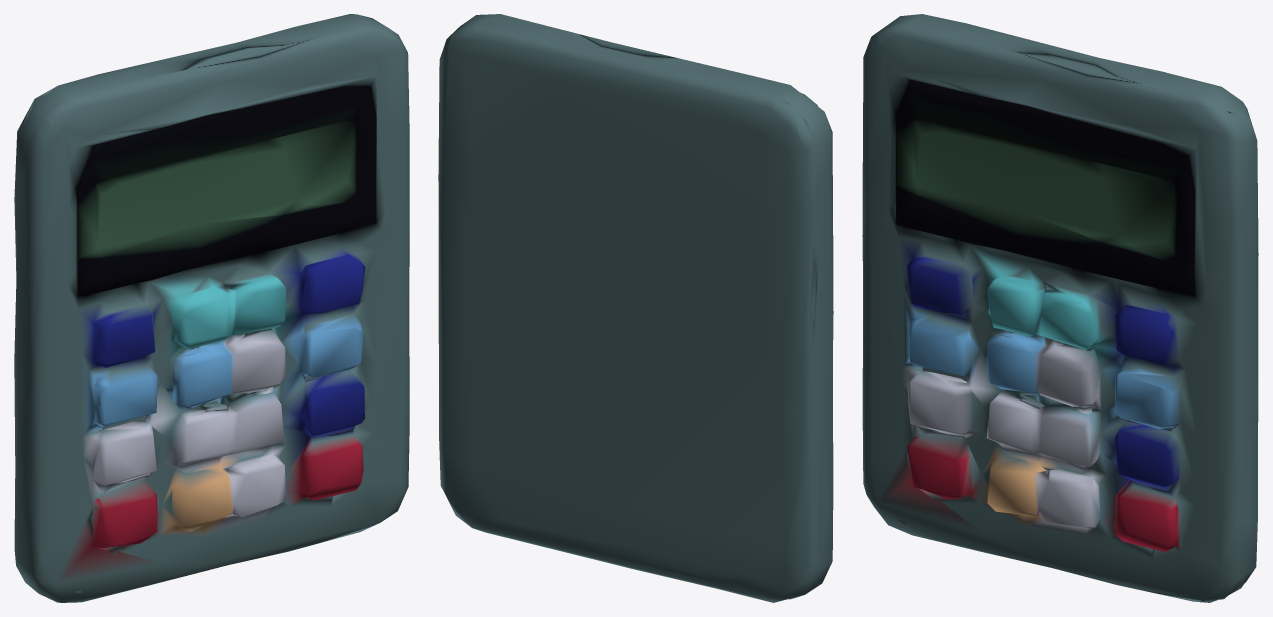
File: gen3d-calculator-lod0.glb
The picture shows the model from 3 angles, left to right: view 1: azimuth 30°, elevation 25°; view 2: azimuth 150°, elevation 25°; view 3: azimuth 330°, elevation 25°; orthographic projection.
Parts seen in each view (by area): view 1: part_0; view 2: part_0; view 3: part_0.
Boxes of the visible parts, bbox=[...] form: part_0: bbox=[14, 14, 409, 602]; part_0: bbox=[438, 14, 833, 602]; part_0: bbox=[862, 14, 1258, 602].
Size of the model in its own units: 0.7797 by 0.9995 by 0.1362.
